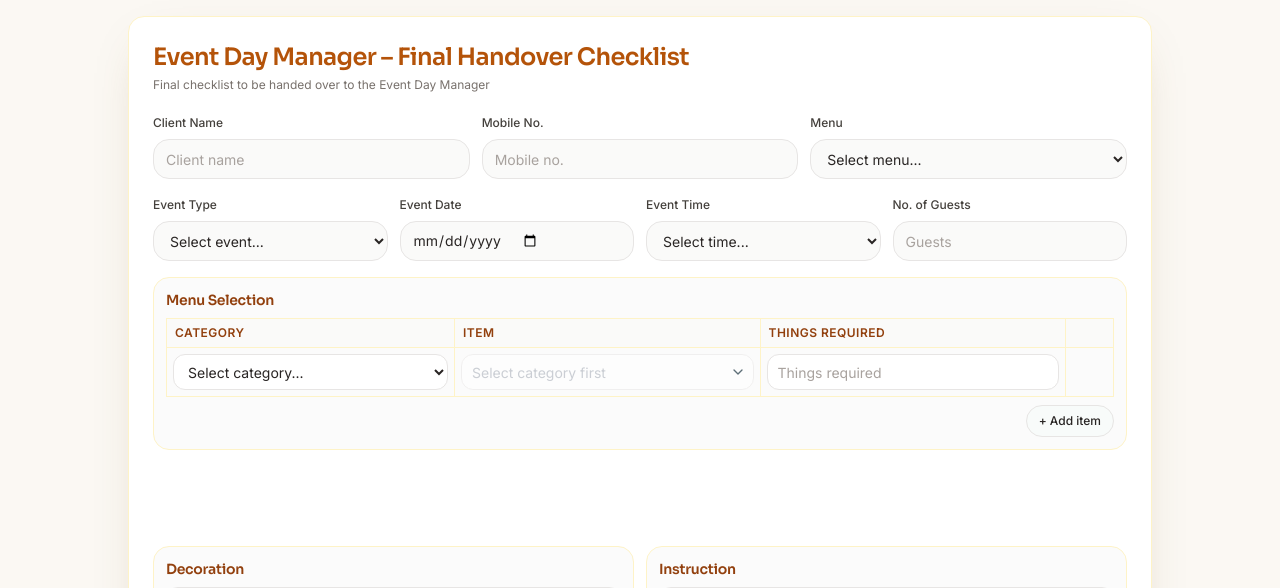
Banquet public handover checklist › clears a picked item from the search field
This screenshot has width=1280, height=588.
Select "Rice" in the dropdown named "Row 1 category" at (310, 372), box [173,354,448,390]
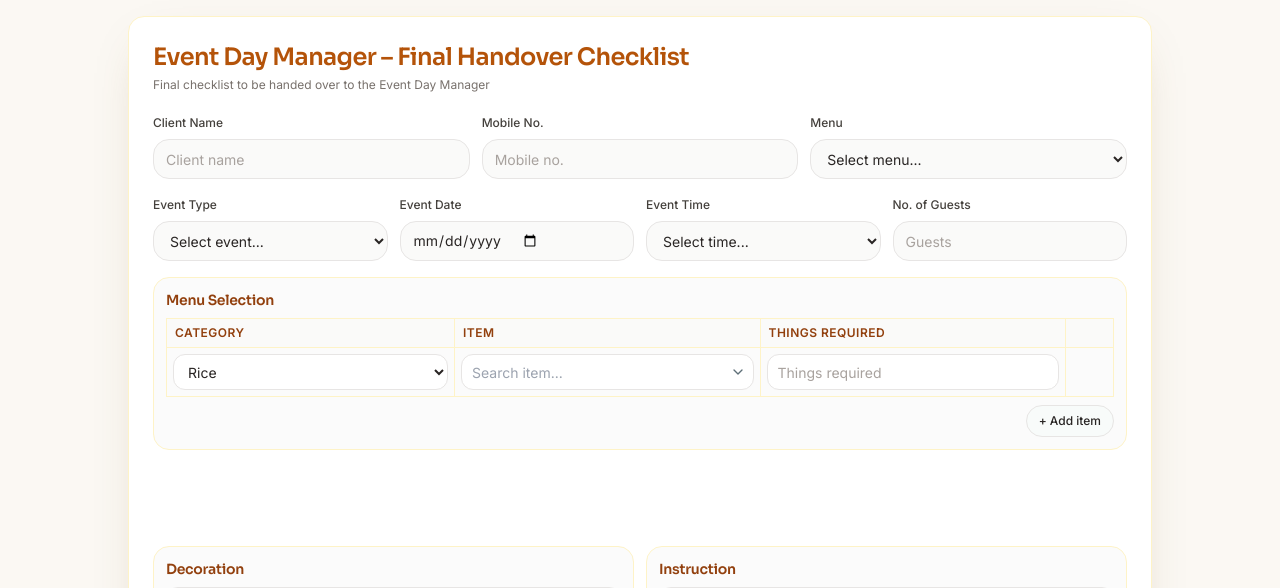
Click the dropdown named "Row 1 item" at (607, 372), box [461,354,754,390]
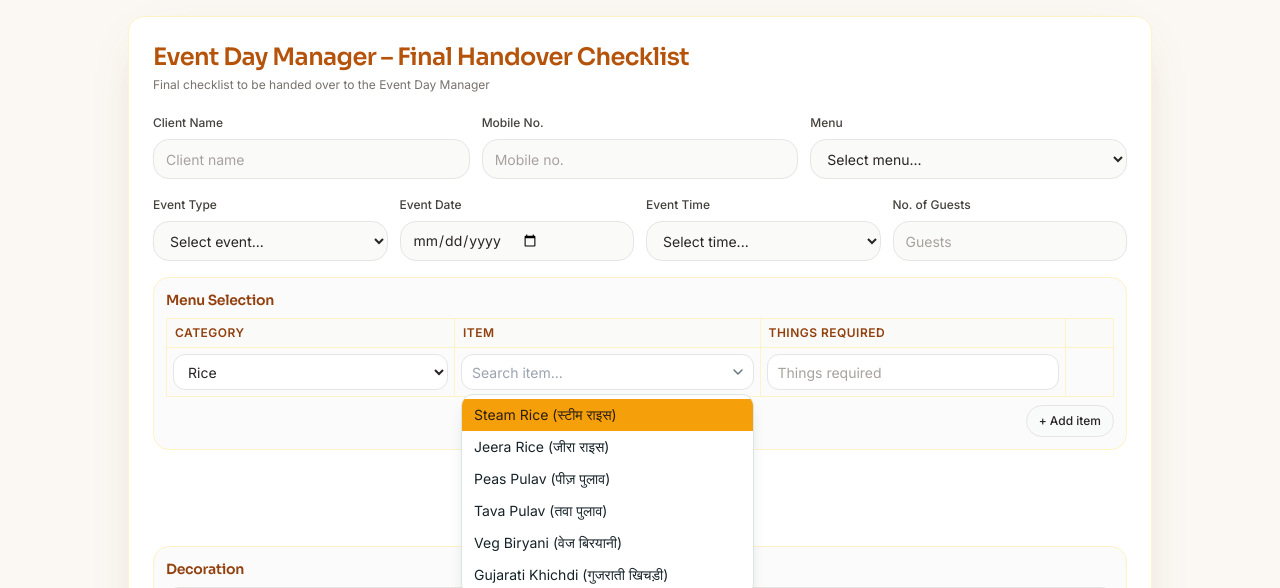
Click the option "Jeera Rice (जीरा राइस)" at (542, 446), box [474,438,609,455]
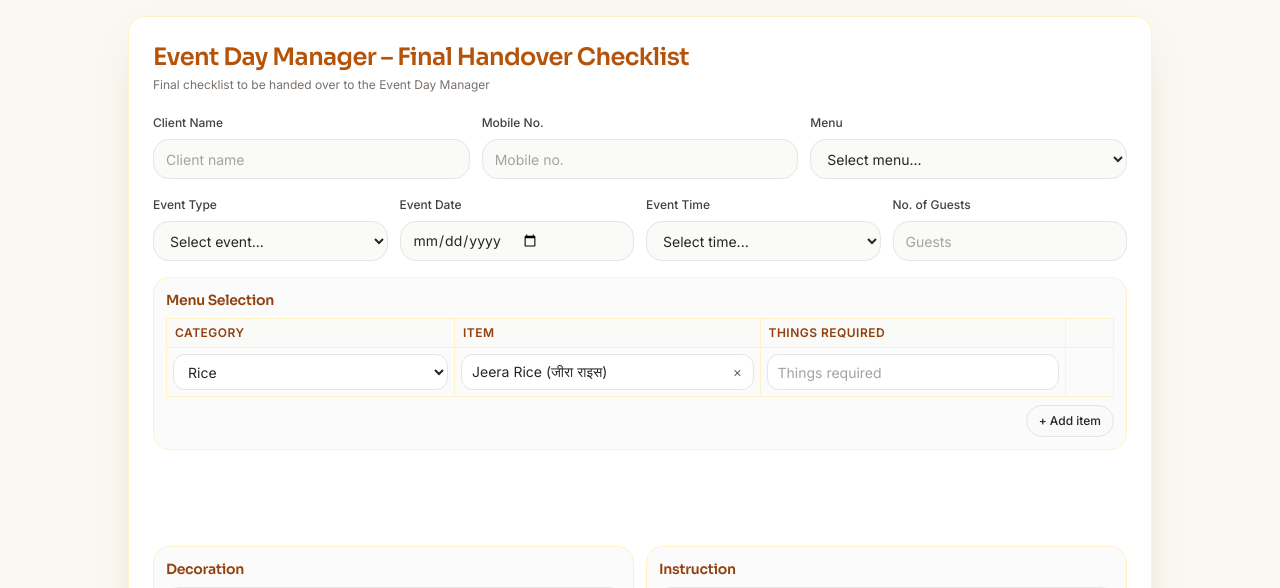
Now the dropdown named "Row 1 item" holds "Jeera Rice (जीरा राइस)", box [461,354,754,390]
Click the button named "Clear Row 1 item" at (738, 372), box [726,360,750,384]
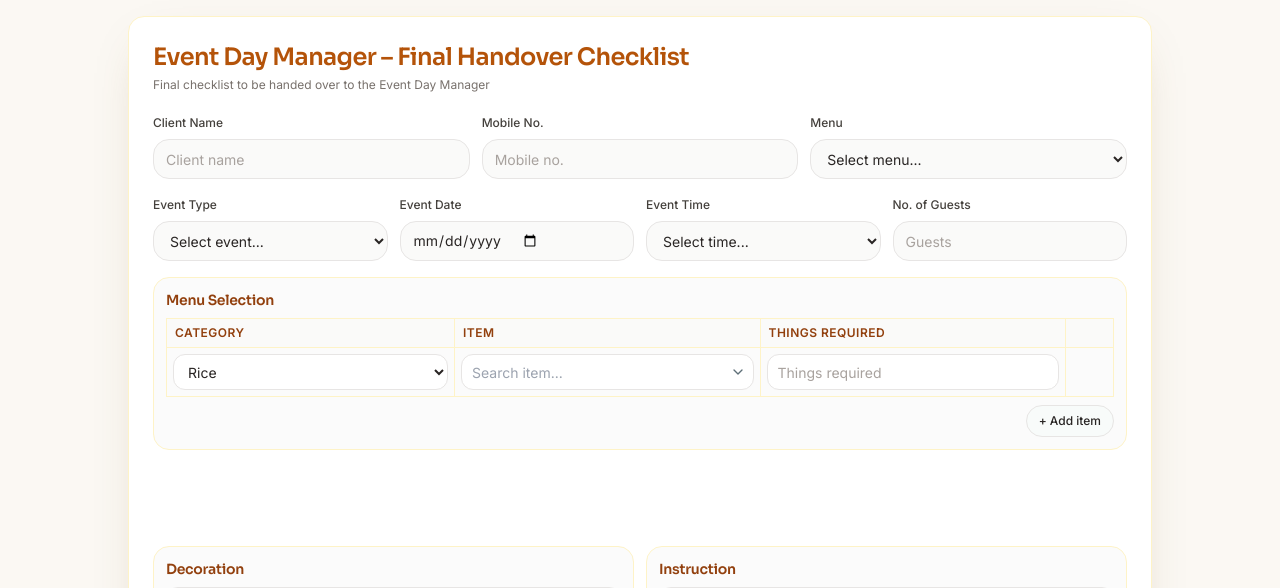
Now the dropdown named "Row 1 item" is empty, box [461,354,754,390]
